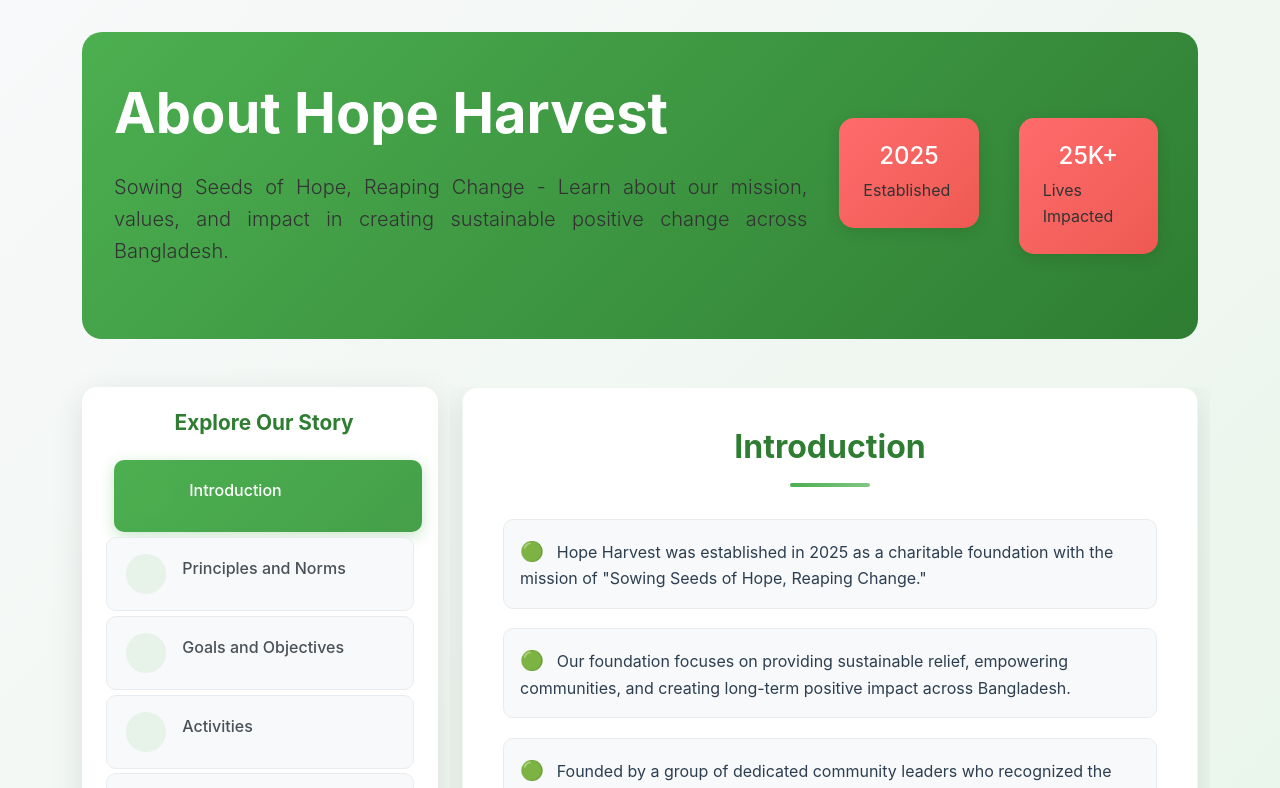
Scenario: AboutPage Component › can navigate through all menu sections
The width and height of the screenshot is (1280, 788).
Click the list item "Activities" at [260, 732], box [106,694,414,768]
(page scrolled)
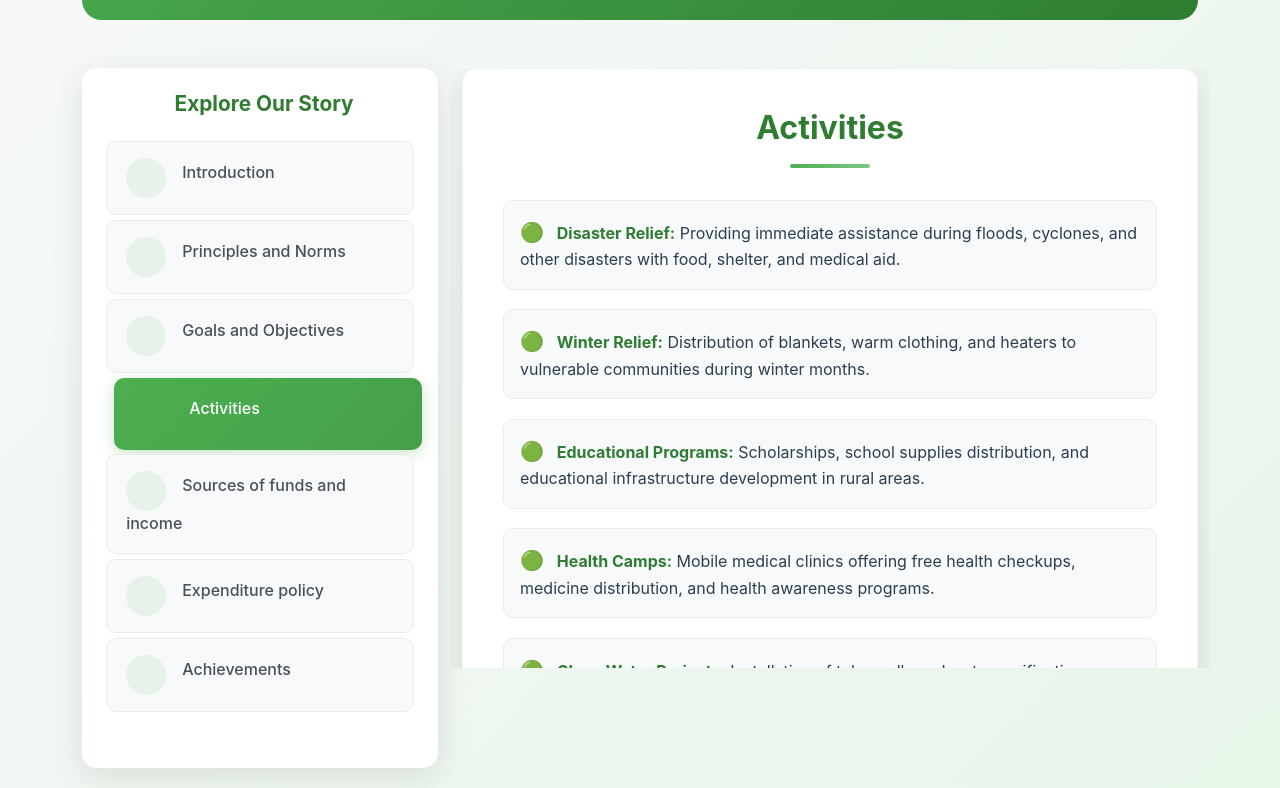
Expected: the heading "Activities" is shown, [756,108,904,147]
Click the list item "Achievements" at [260, 674], box [106,638,414,712]
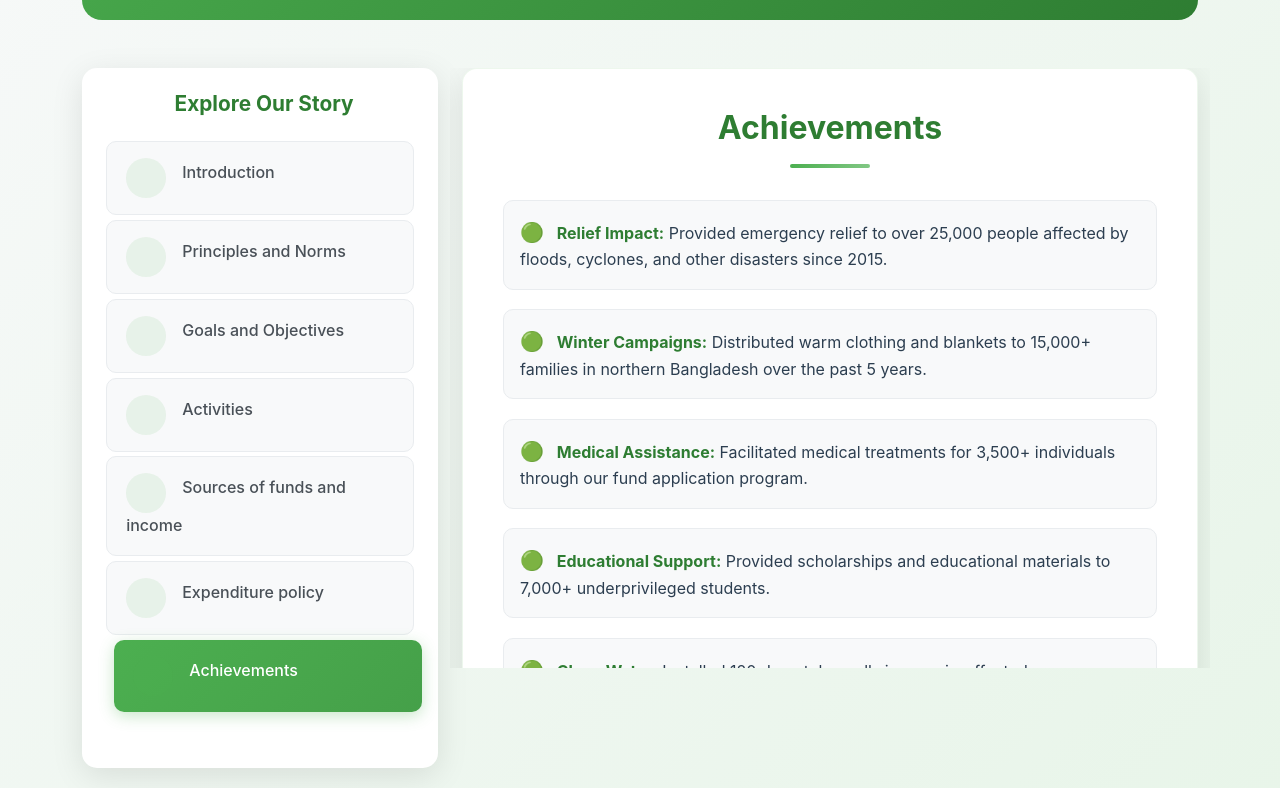
Expected: the heading "Achievements" is shown, [718,108,942,147]
Click the list item "Expenditure policy" at [260, 598], box [106,561,414,635]
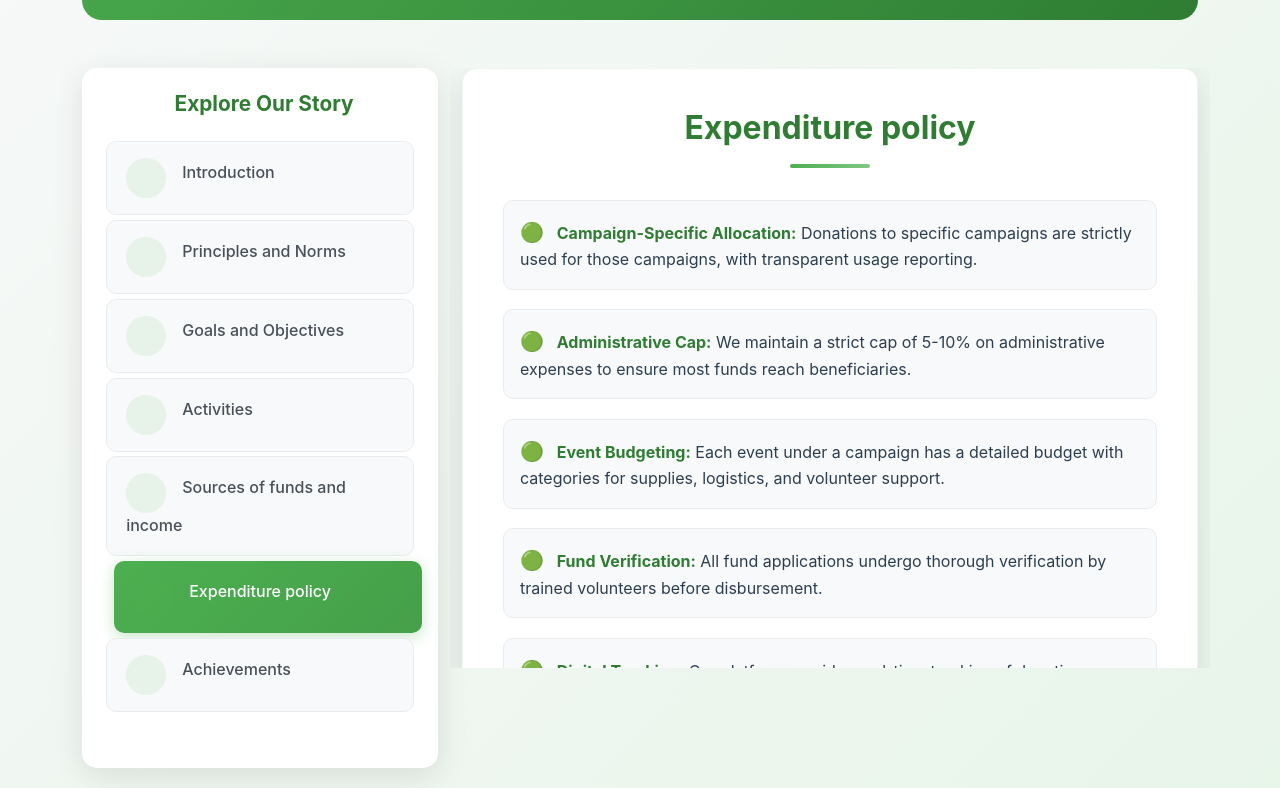
Expected: the heading "Expenditure policy" is shown, [684,108,976,147]
